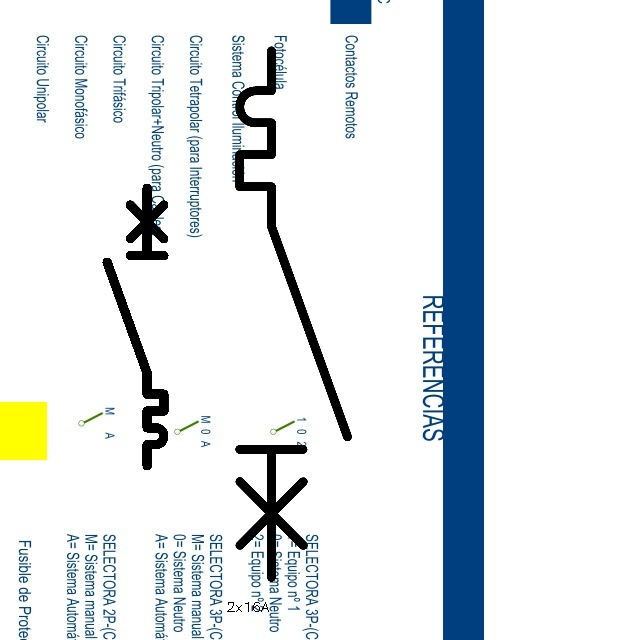interruptor_termomagnetico: (226, 37, 361, 591), (100, 181, 171, 473)
